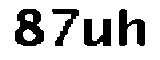7: (49, 6, 80, 49)
8: (12, 9, 47, 51)
h: (116, 4, 150, 54)
u: (80, 12, 113, 52)
